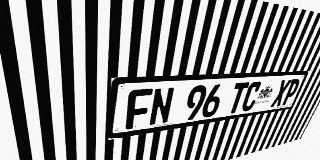6: (200, 84, 225, 118)
9: (183, 85, 208, 121)
C: (240, 81, 263, 112)
F: (125, 88, 153, 130)
N: (148, 87, 175, 126)
P: (280, 79, 301, 106)
T: (226, 82, 250, 114)
X: (270, 79, 292, 107)
